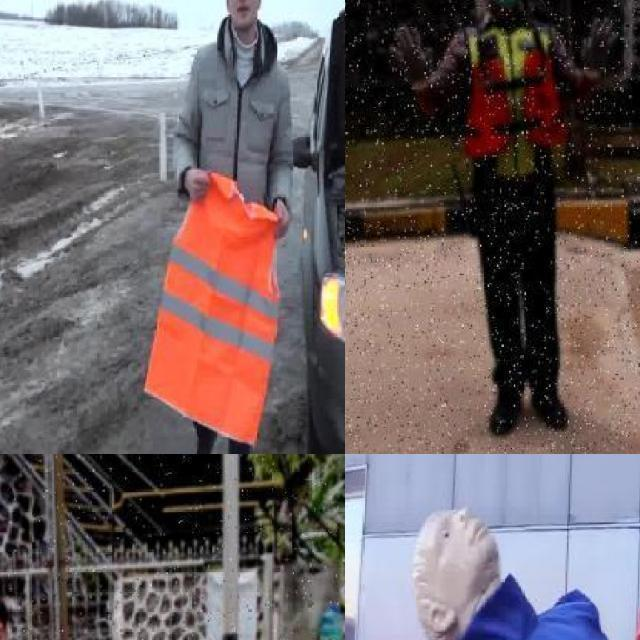apron: (387, 23, 438, 94), (576, 14, 621, 82)
